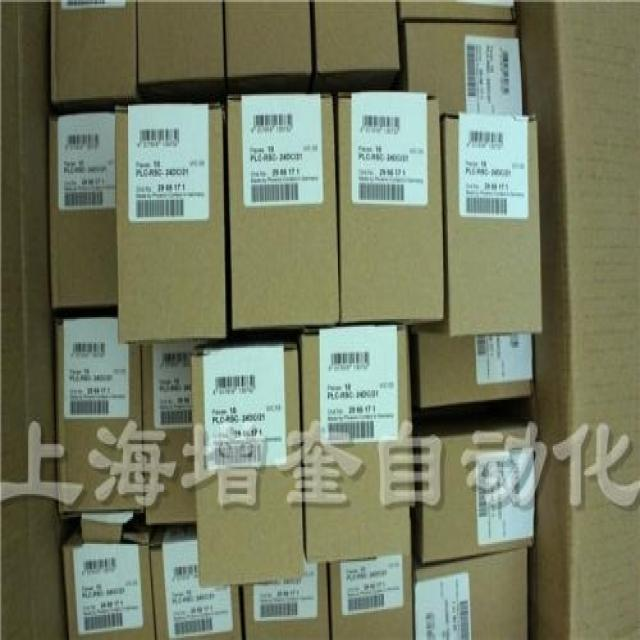box: (191, 344, 304, 587), (227, 94, 340, 328), (116, 104, 226, 344), (301, 326, 411, 561), (338, 92, 443, 323), (441, 110, 542, 337), (57, 318, 144, 513), (421, 425, 534, 563), (50, 114, 117, 307), (142, 340, 206, 525), (63, 513, 155, 638), (405, 23, 523, 113), (150, 525, 242, 638), (415, 548, 527, 638), (416, 323, 534, 407), (51, 0, 136, 101), (137, 0, 224, 82), (244, 556, 329, 638), (329, 556, 413, 638), (224, 0, 312, 77), (315, 0, 400, 73)
